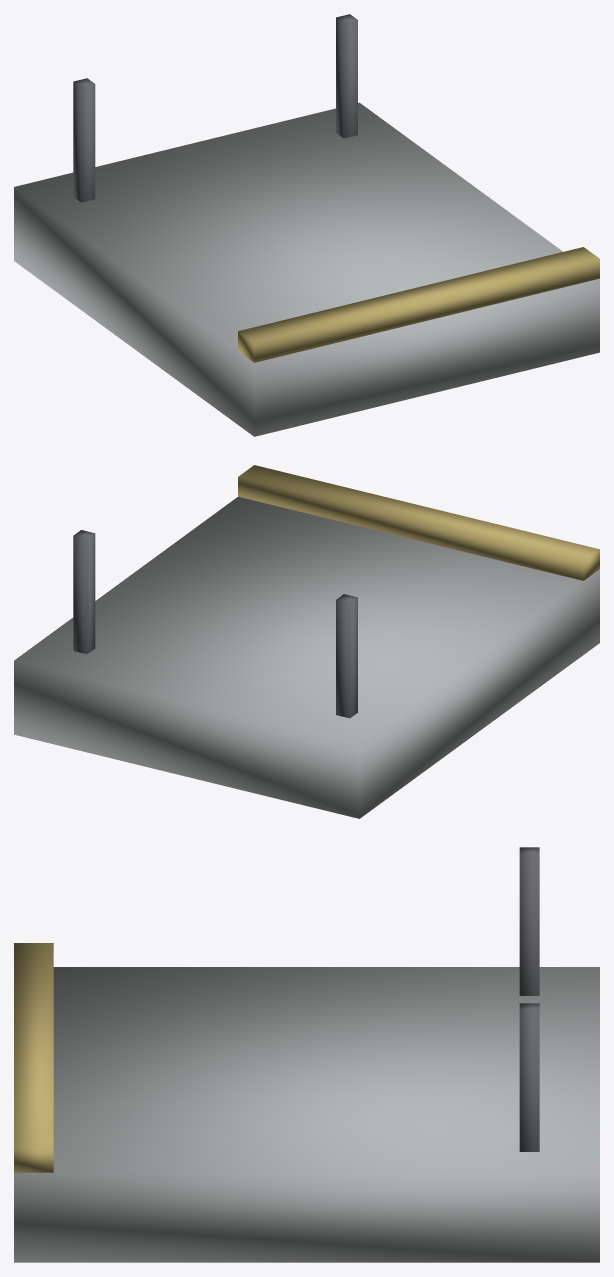
The model's file is loading_dock_19.glb.
The picture shows the model from 3 angles, top to bottom: view 1: azimuth 30°, elevation 25°; view 2: azimuth 150°, elevation 25°; view 3: azimuth 270°, elevation 25°; orthographic projection. The views are drawn at different scales.
Visible parts, largest first — view 1: world; view 2: world; view 3: world.
Part boxes in pixels (x1,y1,x2,y2): world: (14, 14, 599, 436); world: (14, 465, 599, 818); world: (14, 847, 599, 1262).
Bounding box in the file's own units: 2.2 × 1.15 × 2.65.
